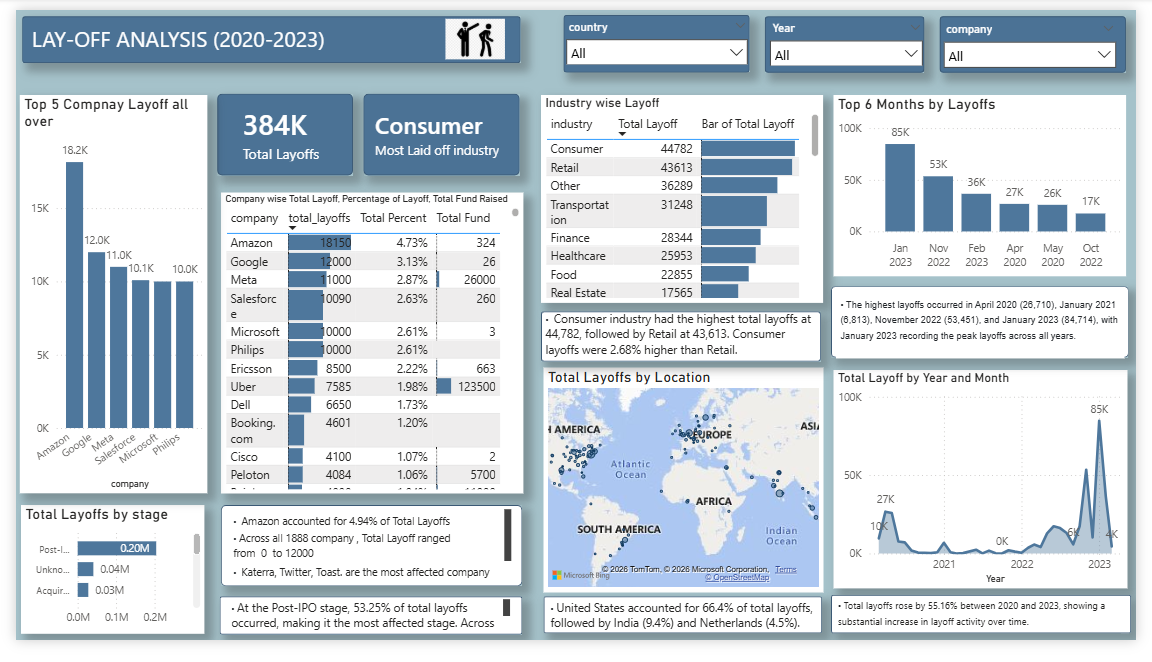

The page's visual inventory and layout, read from the dashboard file:
{"tool":"powerbi","page":{"name":"Page 1","canvas":[1280,720],"ordinal":0},"visuals":[{"type":"shape","box":[625.7,5.5,212.7,65.9],"z":0},{"type":"shape","box":[230.5,96.1,155.1,93.3],"z":1000},{"type":"clusteredBarChart","fields":{"Category":["layoffs_copy2.stage"],"Y":["Sum(layoffs_copy2.total_laid_off)"]},"box":[5.5,565.4,209.9,146.8],"z":2000},{"type":"tableEx","title":"Industry wise Layoff","fields":{"Values":["layoffs_copy2.industry","layoffs_copy2.total_layoffs","layoffs_copy2.Bar of Total Layoff"]},"box":[599.7,97.4,322.5,237.4],"z":3000},{"type":"map","title":"Total Layoffs by Location","fields":{"Category":["layoffs_copy2.location"],"Size":["layoffs_copy2.total_layoffs"]},"box":[602.7,408.9,319.5,256.6],"z":4000},{"type":"areaChart","title":"Total Layoff by Year and Month","fields":{"Y":["Sum(layoffs_copy2.total_laid_off)"],"Category":["layoffs_copy2.date.Variation.Date Hierarchy.Year","layoffs_copy2.date.Variation.Date Hierarchy.Month"]},"box":[934.5,411.7,336.2,249.7],"z":5000},{"type":"cardVisual","fields":{"Data":["layoffs_copy2.total_layoffs"]},"box":[230.5,93.3,148.2,97.4],"z":6000},{"type":"tableEx","title":"Company wise Total Layoff, Percentage of Layoff, Total Fund Raised","fields":{"Values":["layoffs_copy2.company","layoffs_copy2.total_layoffs","layoffs_copy2.Total Percent","Sum(layoffs_copy2.funds_raised_millions)"]},"box":[234.3,208.6,345.7,344.3],"z":7000},{"type":"shape","box":[396.6,96.1,178.4,93.3],"z":8000},{"type":"cardVisual","fields":{"Data":["Min(layoffs_copy2.industry)"]},"box":[381.5,81,218.2,120.8],"z":9000},{"type":"slicer","fields":{"Values":["layoffs_copy2.country"]},"box":[618.9,6.9,227.8,54.9],"z":10000},{"type":"shape","box":[856.3,6.9,182.5,64.5],"z":11000},{"type":"shape","box":[1055.2,7.4,212.7,64.5],"z":12000},{"type":"slicer","fields":{"Values":["layoffs_copy2.Year"]},"box":[850.8,8.2,194.9,54.9],"z":13000},{"type":"slicer","fields":{"Values":["layoffs_copy2.company"]},"box":[1049.7,9.6,216.8,60.4],"z":14000},{"type":"shape","box":[234.3,565.7,344.3,92.9],"z":15000},{"type":"shape","box":[233.3,669.6,345.8,43.9],"z":16000},{"type":"textbox","box":[242.9,565.7,328.6,92.9],"z":17000},{"type":"shape","box":[599.9,343.6,319.7,57.6],"z":18000},{"type":"shape","box":[931.7,315.1,340.3,81.5],"z":19000},{"type":"shape","box":[602.4,669.6,318.4,42.5],"z":20000},{"type":"shape","box":[931.7,668.3,343.1,43.9],"z":21000},{"type":"textbox","box":[934.5,665.5,326.6,54.9],"z":22000},{"type":"textbox","box":[937.5,321.4,329.3,76.8],"z":23000},{"type":"shape","box":[6.9,6.9,569.5,53.5],"z":24000},{"type":"textbox","box":[12.3,11,456.9,52.1],"z":25000},{"type":"image","box":[469.3,9.6,109.8,46.7],"z":26000},{"type":"clusteredColumnChart","title":"Top 5 Compnay Layoff all over","fields":{"Category":["layoffs_copy2.company"],"Y":["layoffs_copy2.total_layoffs"]},"box":[4.7,97.4,214.1,455.6],"z":27000},{"type":"textbox","box":[605.1,668.3,316.4,45.3],"z":28000},{"type":"textbox","box":[241.5,668.3,328,46.7],"z":29000},{"type":"textbox","box":[599.7,338.9,319.7,65.9],"z":29001},{"type":"clusteredColumnChart","title":"Top 6 Months by Layoffs","fields":{"Category":["layoffs_copy2.YearMonth"],"Y":["layoffs_copy2.total_layoffs"]},"box":[934.3,97.1,334.3,207.1],"z":29002}]}

Visuals, with their boxes in screenshot pixels (x1, y1, x2, y2), scaled from the page's 1280x720 canvas onto the 1152x662 screenshot:
shape: [563,5,755,66]
shape: [207,88,347,174]
clusteredBarChart - layoffs_copy2.stage x Sum(layoffs_copy2.total_laid_off): [5,520,194,655]
"Industry wise Layoff" tableEx: [540,90,830,308]
"Total Layoffs by Location" map: [542,376,830,612]
"Total Layoff by Year and Month" areaChart: [841,379,1144,608]
cardVisual - layoffs_copy2.total_layoffs: [207,86,341,175]
"Company wise Total Layoff, Percentage of Layoff, Total Fund Raised" tableEx: [211,192,522,508]
shape: [357,88,518,174]
cardVisual - Min(layoffs_copy2.industry): [343,74,540,186]
slicer - layoffs_copy2.country: [557,6,762,57]
shape: [771,6,935,66]
shape: [950,7,1141,66]
slicer - layoffs_copy2.Year: [766,8,941,58]
slicer - layoffs_copy2.company: [945,9,1140,64]
shape: [211,520,521,606]
shape: [210,616,521,656]
textbox: [219,520,514,606]
shape: [540,316,828,369]
shape: [839,290,1145,365]
shape: [542,616,829,655]
shape: [839,614,1147,655]
textbox: [841,612,1135,661]
textbox: [844,296,1140,366]
shape: [6,6,519,56]
textbox: [11,10,422,58]
image: [422,9,521,52]
"Top 5 Compnay Layoff all over" clusteredColumnChart: [4,90,197,508]
textbox: [545,614,829,656]
textbox: [217,614,513,657]
textbox: [540,312,827,372]
"Top 6 Months by Layoffs" clusteredColumnChart: [841,89,1142,280]
